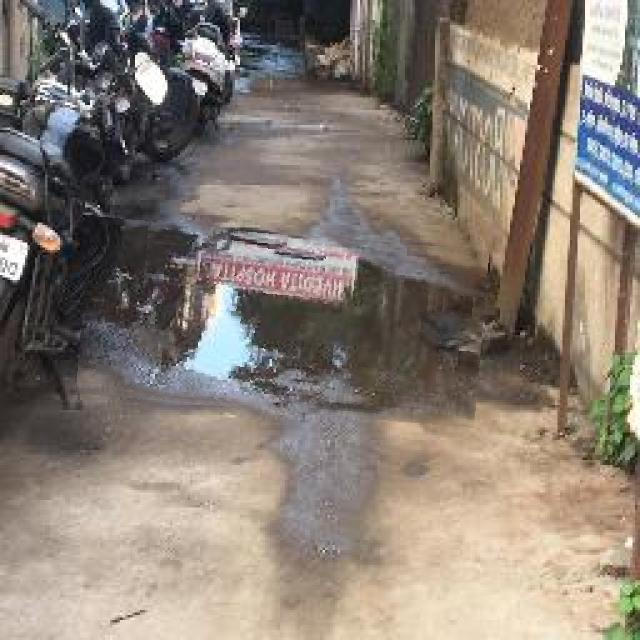puddle: (80, 225, 487, 421)
